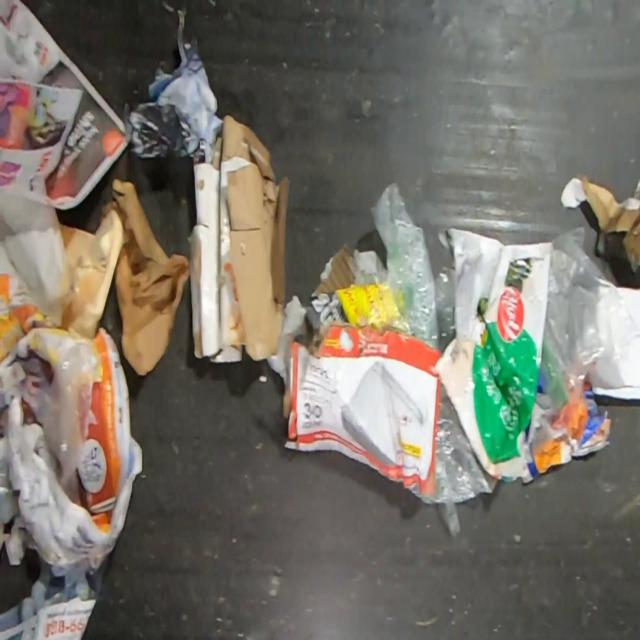cardboard: (282, 325, 442, 497), (187, 114, 290, 364), (559, 176, 640, 275), (304, 239, 384, 329)
soft_plastic: (428, 225, 554, 483), (540, 224, 640, 417), (349, 178, 455, 356), (418, 383, 500, 540), (33, 342, 101, 491)
